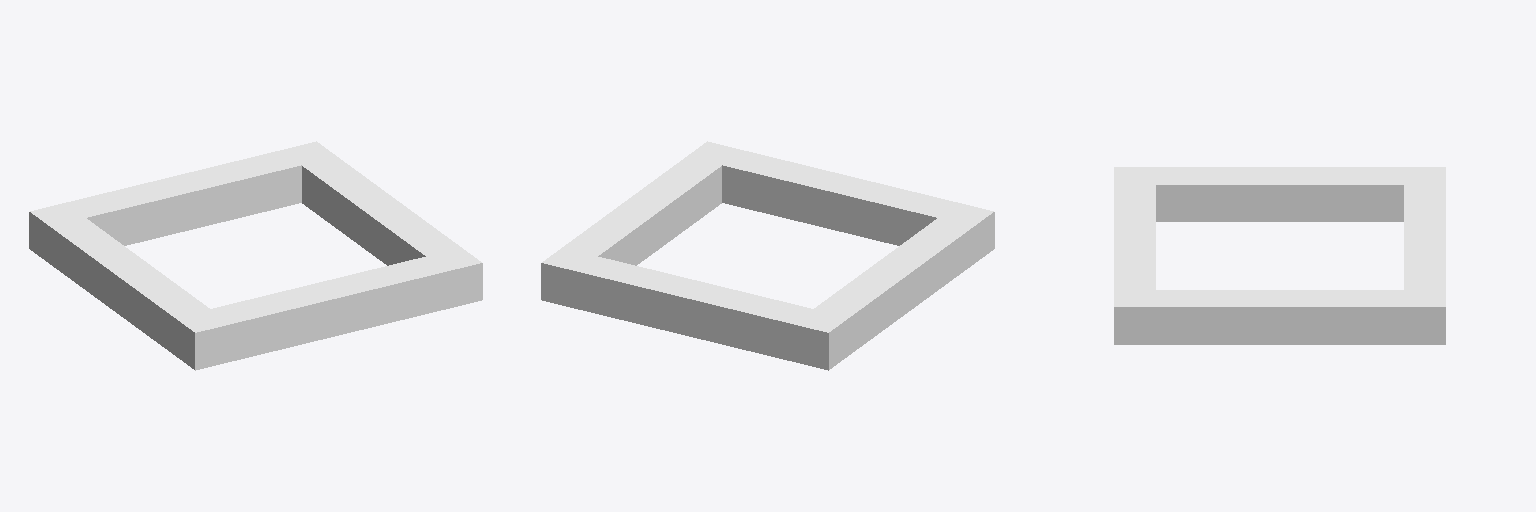
The model's file is RawGridCell.obj.
The picture shows the model from 3 angles: view 1: azimuth 30°, elevation 25°; view 2: azimuth 150°, elevation 25°; view 3: azimuth 270°, elevation 25°; orthographic projection.
Visible parts, largest first — view 1: object 1; view 2: object 1; view 3: object 1.
Part boxes in pixels (x1,y1,x2,y2): object 1: (29, 141, 482, 370); object 1: (541, 141, 994, 370); object 1: (1114, 167, 1445, 344).
Bounding box in the file's own units: 0.8 × 0.1 × 0.8.